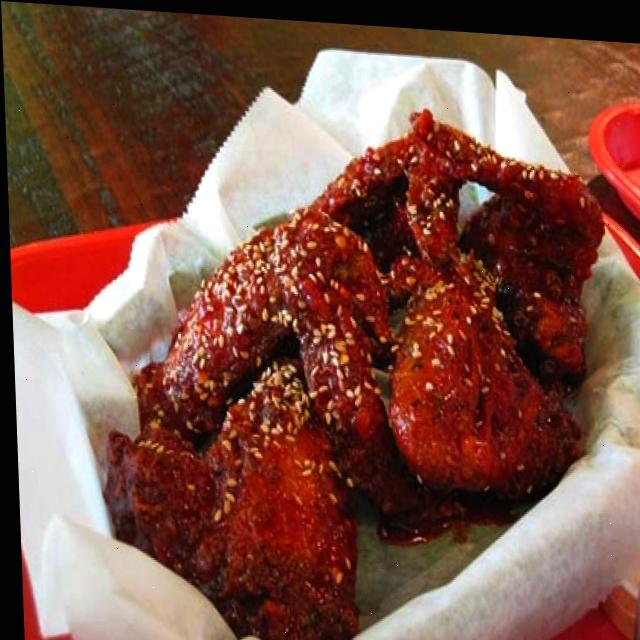鸡肉料理 含炸鸡: (49, 50, 624, 640)
